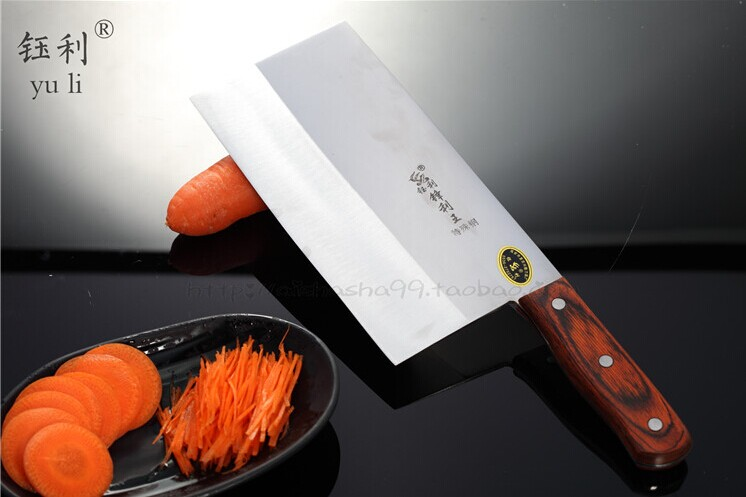knief: (187, 42, 711, 449)
